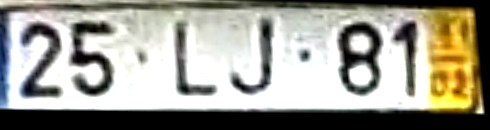1: (387, 17, 422, 101)
2: (15, 17, 67, 101)
5: (64, 19, 121, 99)
8: (333, 19, 387, 100)
J: (226, 14, 277, 99)
L: (167, 18, 222, 98)
